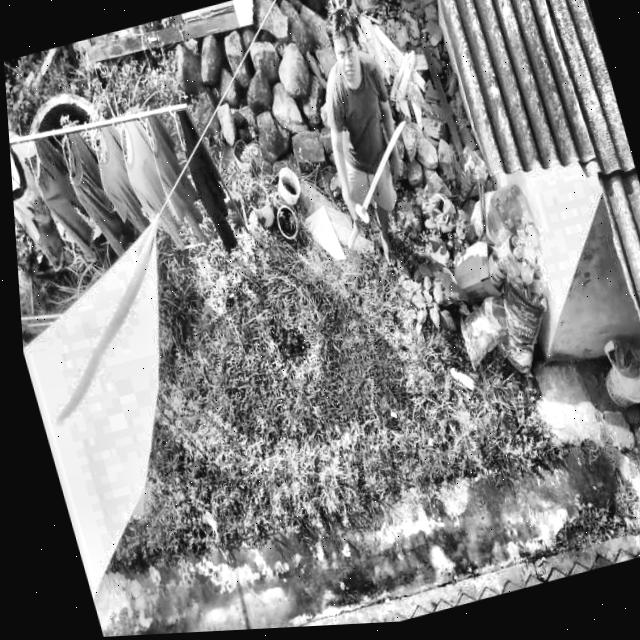pisau: (340, 114, 415, 249)
